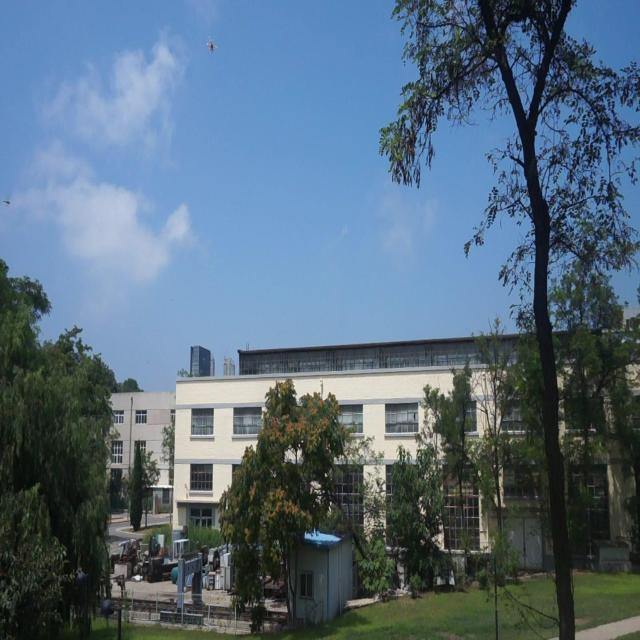drone: (204, 34, 219, 58)
